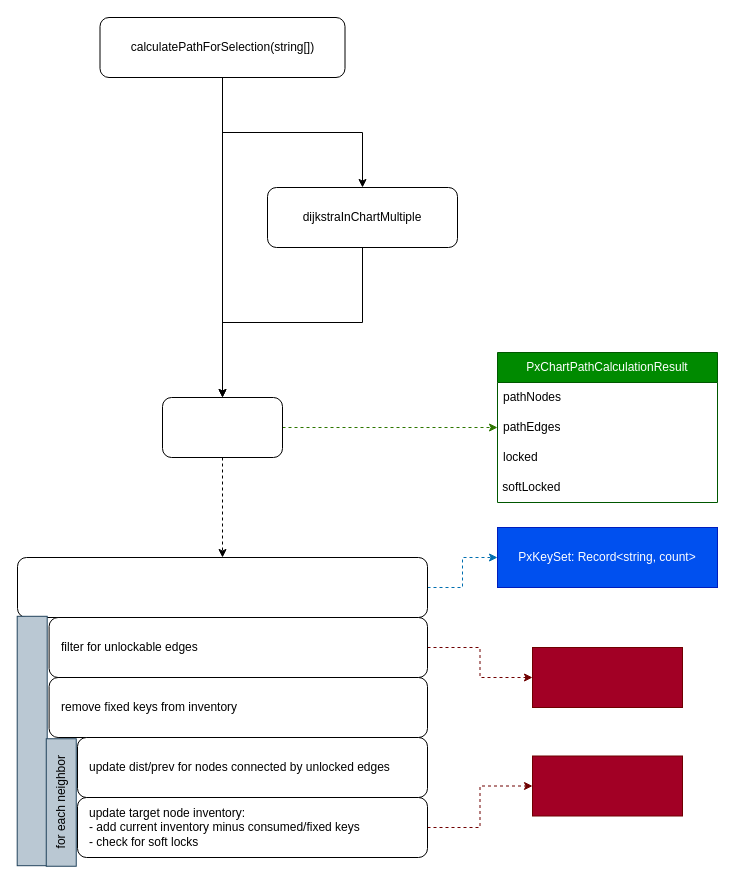
The diagram is 736 pixels wide and 884 high, and some of its shapes have lost their labels. Here are the shapes that lost their labels. From the top down, the box of each, then its label:
(162, 396, 282, 458): dijkstraInChart
(16, 556, 428, 618): initialize queue for Dijkstra, assign inventory to each node
(532, 646, 682, 708): canUnlock
(16, 615, 47, 866): for each node
(532, 755, 682, 816): removeConsumed
